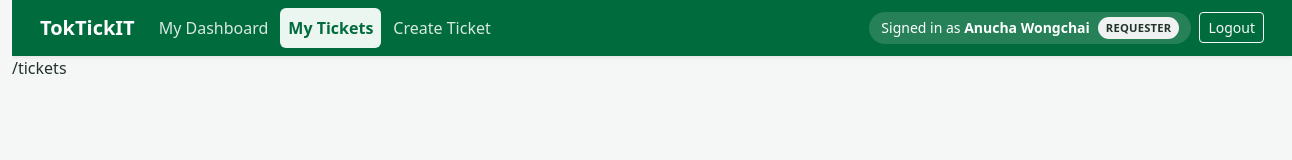
Test case: AppHeader Component (Issue #24 adapted for Lab 3, FR-18, FR-19) › navigates to the login screen after a confirmed sign-out
Click the button with test id "logout-btn" at (1232, 28), box [1199,12,1264,44]
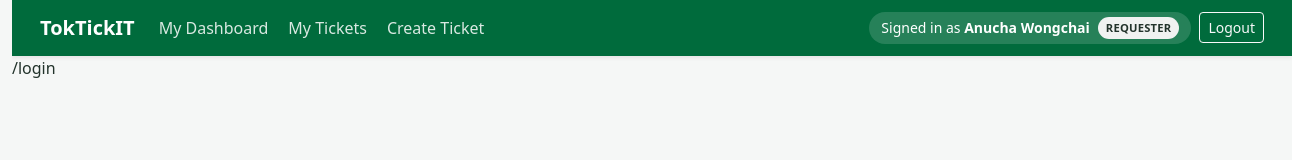
Now the text with test id "location" reads "/login", box [12,57,56,79]
